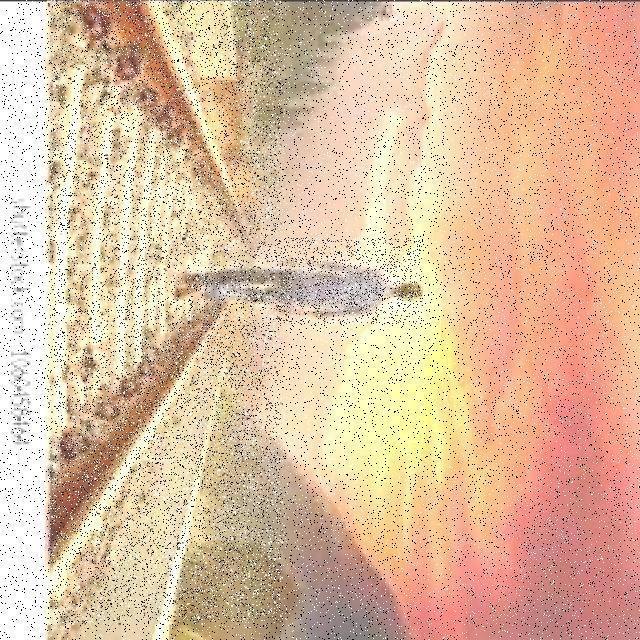rail: (49, 1, 282, 623)
